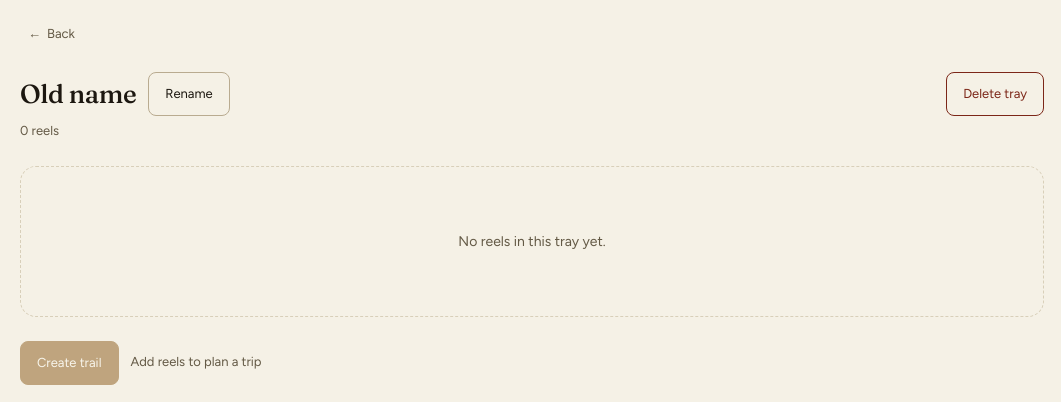
TrayDetail › updates the shown name after a successful rename
Expected: the heading "Old name" is shown, [20, 74, 136, 114]
Click the button "Rename" at (189, 94), box [148, 72, 230, 116]
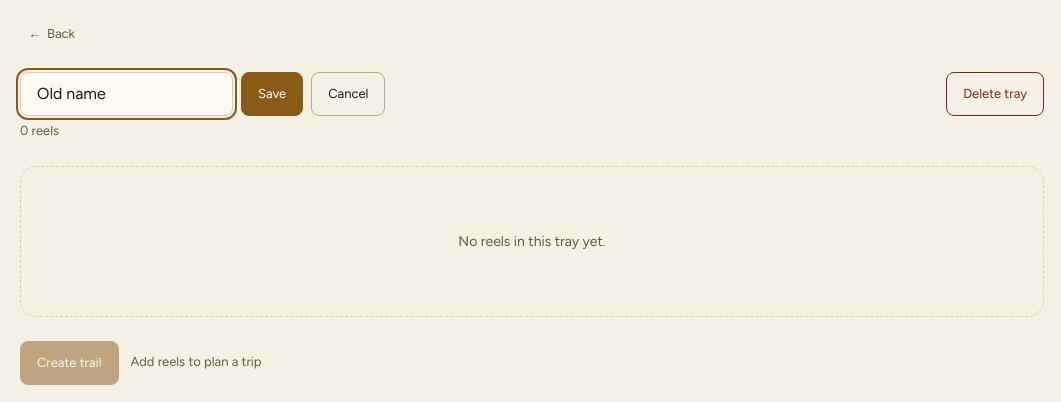
Replace the text in the field named "tray name" with "New name" at (126, 94), box [20, 72, 233, 116]
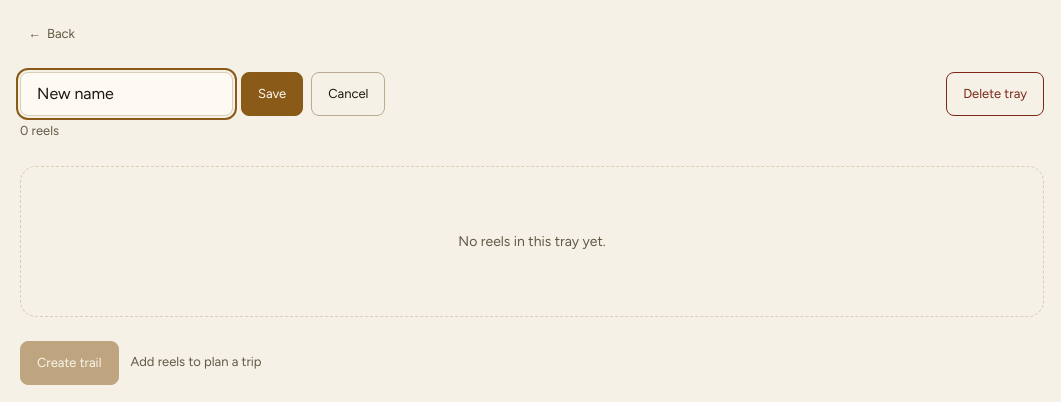
Click the button "Save" at (272, 94), box [241, 72, 303, 116]
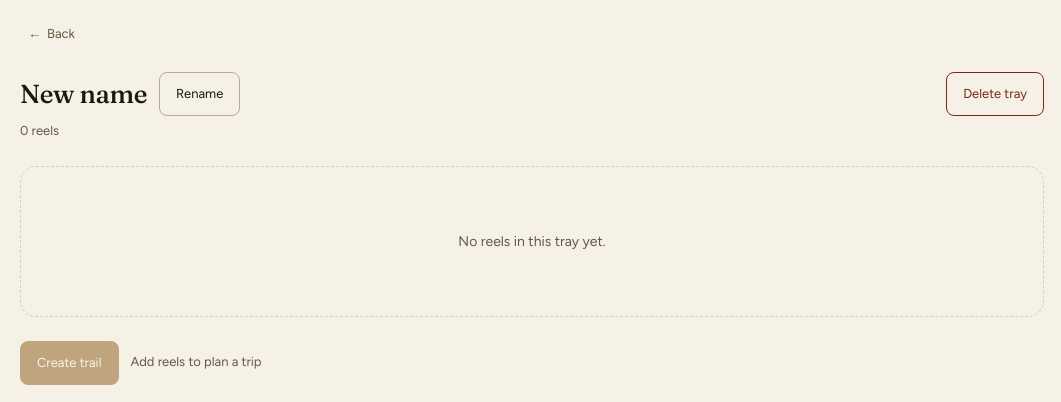
Expected: the heading "New name" is shown, [20, 74, 147, 114]
